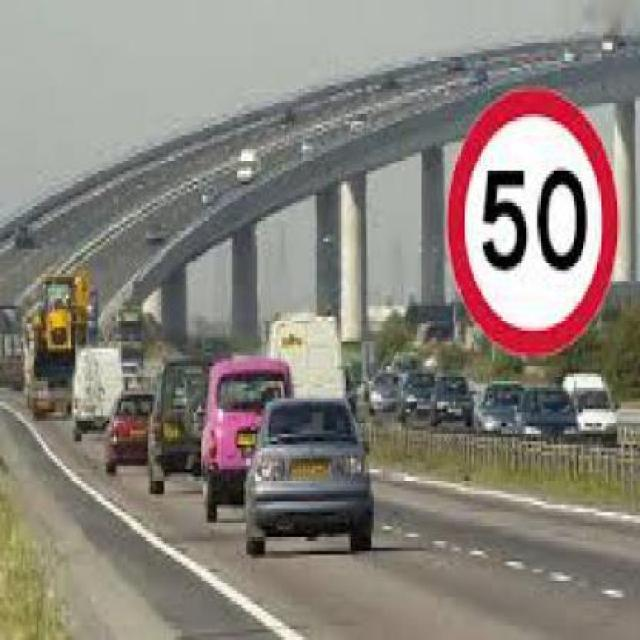speed_limit_50: (443, 88, 614, 370)
